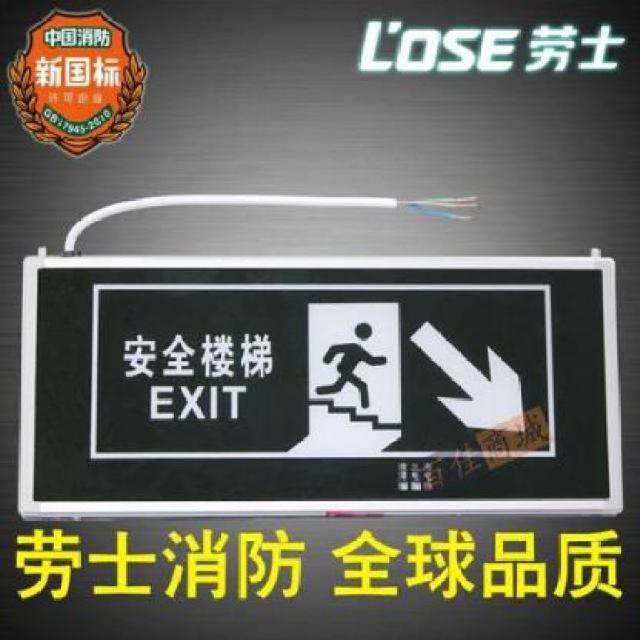exit_sign: (12, 240, 628, 528)
